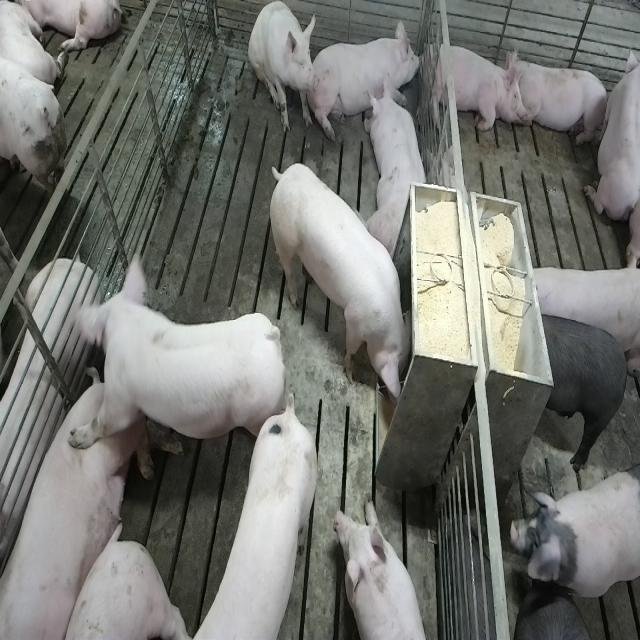Feeding: (272, 161, 420, 413)
Sitting: (248, 2, 318, 137)
Standing: (65, 250, 291, 484), (193, 395, 322, 640), (509, 458, 638, 610), (534, 306, 627, 469), (524, 269, 636, 355), (514, 596, 602, 640)
Sternal_lying: (0, 396, 147, 636), (333, 500, 433, 640), (314, 18, 423, 138), (367, 78, 430, 256), (583, 38, 637, 229), (510, 52, 611, 148), (424, 37, 521, 135)
